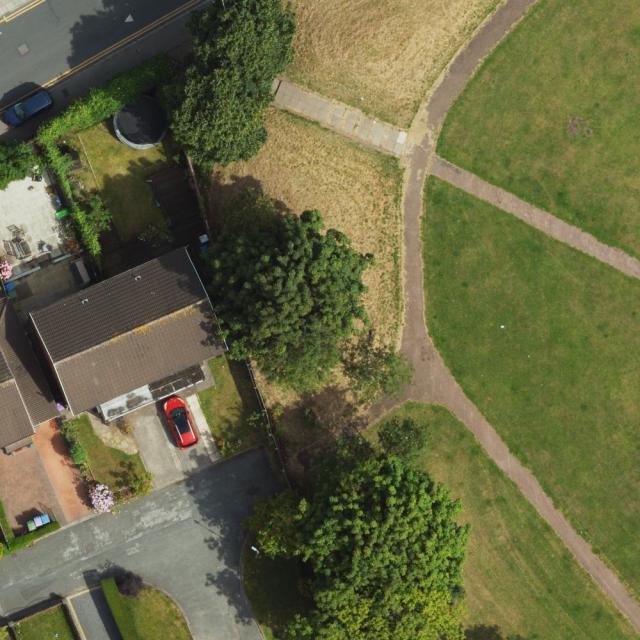roof: (31, 247, 230, 421), (1, 297, 62, 449)
